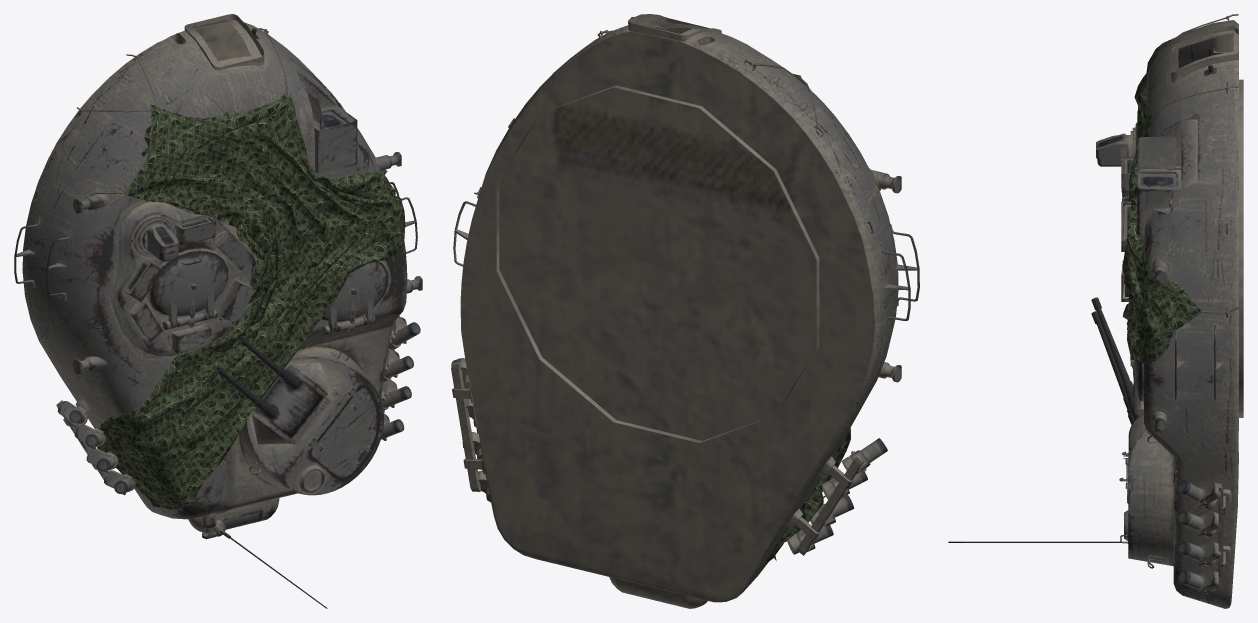
File: Turret_01.glb
3 renders of one model, left to right at view 1: azimuth 30°, elevation 25°; view 2: azimuth 150°, elevation 25°; view 3: azimuth 270°, elevation 25°, orthographic. The views are drawn at different scales.
Parts seen in each view (by area): view 1: set_0_group_0, set_0_group_1; view 2: set_0_group_0, set_0_group_1; view 3: set_0_group_0, set_0_group_1.
Boxes of the visible parts, left/top/right/bottom form: set_0_group_0: left=14, top=14, right=422, bottom=608; set_0_group_1: left=97, top=92, right=405, bottom=511; set_0_group_0: left=451, top=14, right=919, bottom=608; set_0_group_1: left=765, top=74, right=850, bottom=565; set_0_group_0: left=948, top=14, right=1243, bottom=608; set_0_group_1: left=1122, top=38, right=1200, bottom=379.
Size of the model in its own units: 3.01 by 3.66 by 1.86.
Materials: 2 (2 with a texture image).
